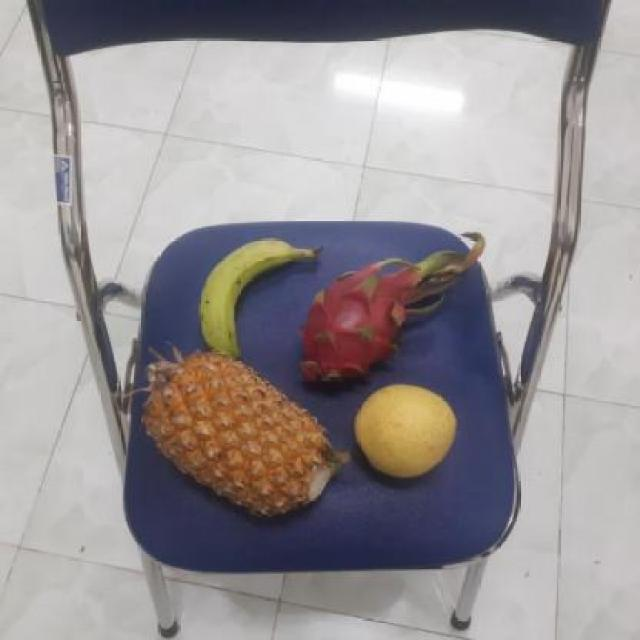banana: (194, 238, 309, 360)
dragon fruit: (292, 262, 428, 389)
pear: (352, 378, 458, 482)
pineapple: (134, 348, 338, 522)
